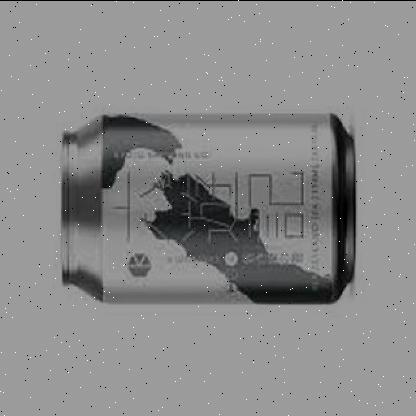Can: (59, 108, 358, 307)
